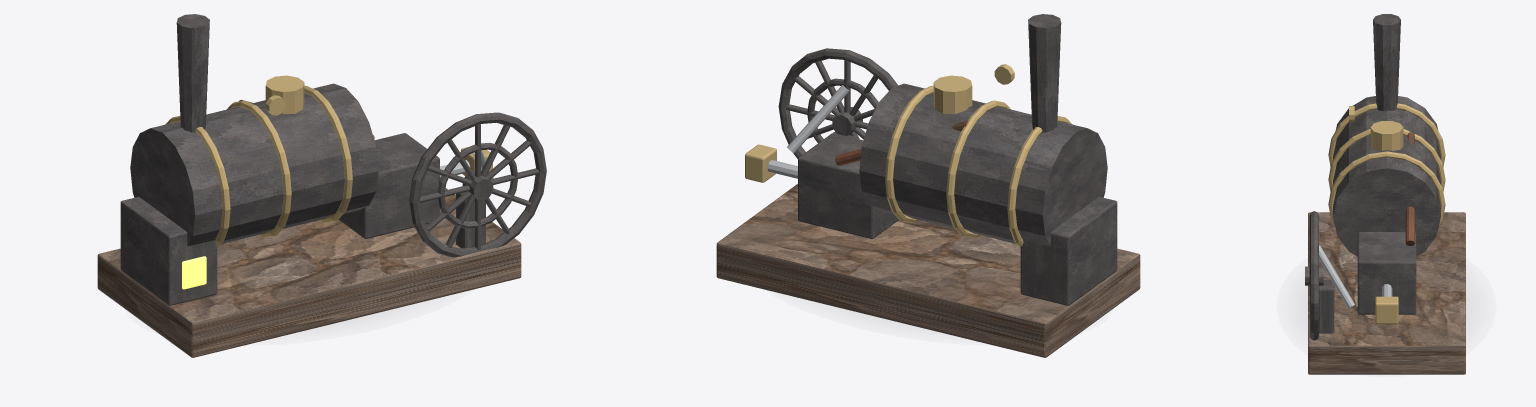
File: steam-engine.glb
3 views of the same model, side by side, from view 1: azimuth 30°, elevation 25°; view 2: azimuth 150°, elevation 25°; view 3: azimuth 270°, elevation 25° (orthographic). The views are drawn at different scales.
Parts seen in each view (by area): view 1: base, boiler, firebox, cylBlock, rim, smokestack, rimIn, boilerBand.002, boilerBand, boilerBand.001, dome, flyPost (+8 smaller); view 2: base, boiler, firebox, cylBlock, smokestack, rim, boilerBand.002, dome, boilerBand, boilerBand.001, crosshead, conRod (+2 smaller); view 3: base, boiler, cylBlock, smokestack, rim, boilerBand, dome, boilerBand.001, boilerBand.002, flyPost, crosshead, conRod (+1 smaller).
Boxes of the visible parts, x1,y1,x2,y2 form: base: (97, 188, 521, 357); boiler: (130, 83, 378, 246); firebox: (120, 197, 217, 305); cylBlock: (338, 133, 439, 238); rim: (409, 112, 546, 257); smokestack: (176, 14, 209, 132); rimIn: (438, 143, 517, 228); boilerBand.002: (227, 100, 291, 237); boilerBand: (304, 85, 352, 223); boilerBand.001: (165, 116, 230, 247); dome: (265, 75, 304, 114); flyPost: (456, 192, 485, 248); base: (716, 184, 1140, 357); boiler: (859, 83, 1107, 246); firebox: (1020, 197, 1117, 305); cylBlock: (798, 133, 899, 238); smokestack: (1028, 14, 1061, 132); rim: (778, 48, 898, 158); boilerBand.002: (946, 100, 1010, 237); dome: (933, 75, 972, 114); boilerBand: (885, 85, 933, 223); boilerBand.001: (1007, 116, 1072, 247); crosshead: (745, 144, 776, 182); conRod: (787, 85, 849, 153); base: (1308, 212, 1465, 374); boiler: (1333, 96, 1440, 256); cylBlock: (1357, 232, 1416, 314); smokestack: (1373, 14, 1400, 110); rim: (1309, 211, 1318, 340); boilerBand: (1328, 151, 1445, 228); dome: (1370, 121, 1403, 150); boilerBand.001: (1328, 103, 1445, 166); boilerBand.002: (1328, 129, 1445, 191); flyPost: (1319, 280, 1334, 333); crosshead: (1375, 296, 1398, 324); conRod: (1319, 245, 1354, 308).
Bounding box in the file's own units: 3.5 × 2.28 × 2.3.
Materials: 9 (5 with a texture image).
